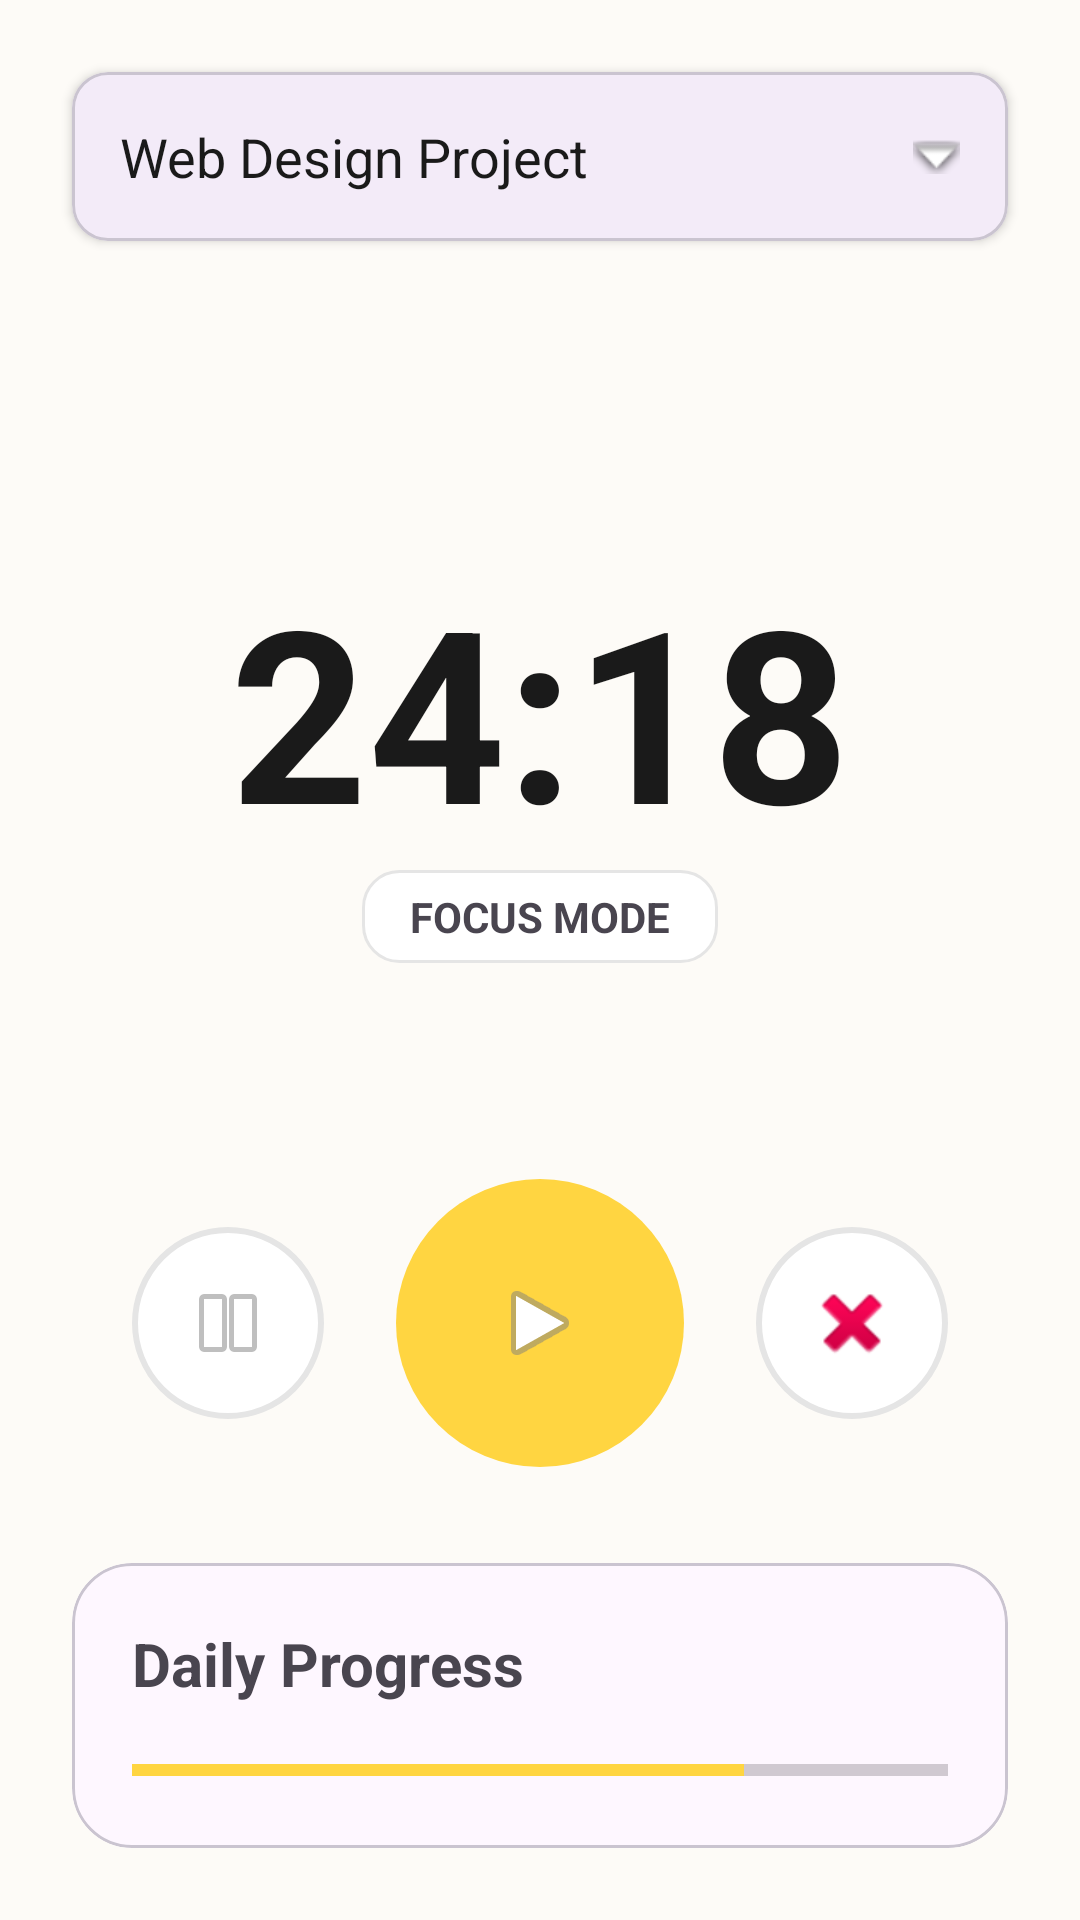

Icon bounding boxes for this 1080w x 1920h phone screenshot, format (x1, y1, x2, y2):
delete: (821, 1294, 883, 1353)
pause: (132, 1227, 324, 1419)
play: (396, 1179, 684, 1467)
